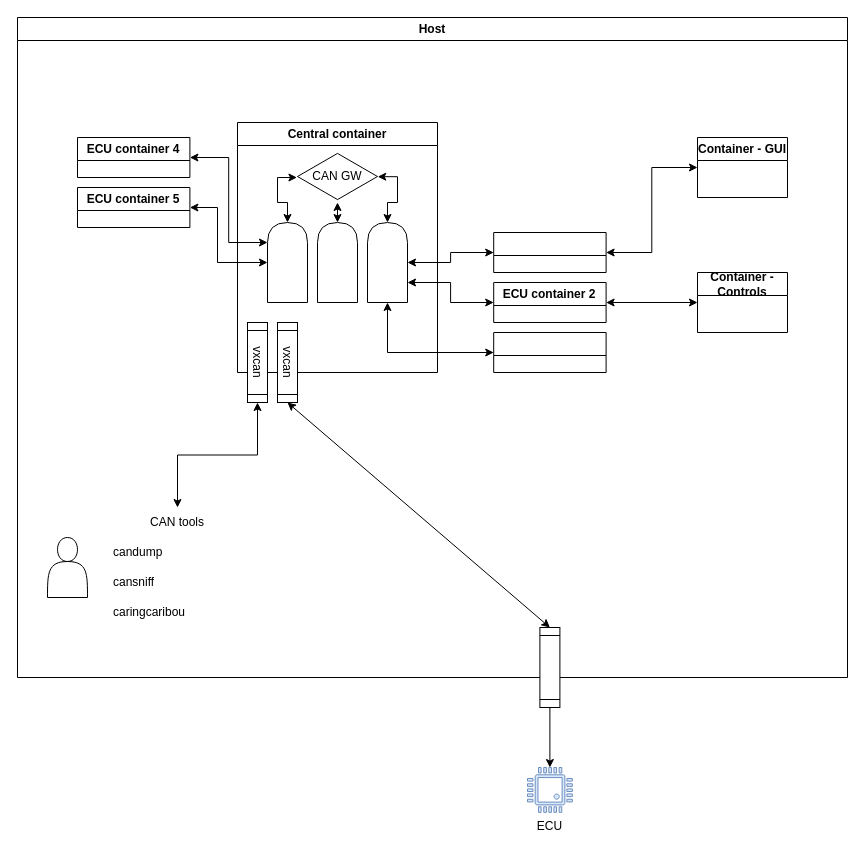
Some shapes in this 865 by 851 pixel diagram are drawn without their labels. Each missing label, with the centre of its shape:
"can0" goes at [549,667].
"ECU container 1" goes at [549,252].
"ECU container 3" goes at [549,352].
"vcan0" goes at [287,262].
"vcan1" goes at [337,262].
"vcan2" goes at [387,262].
